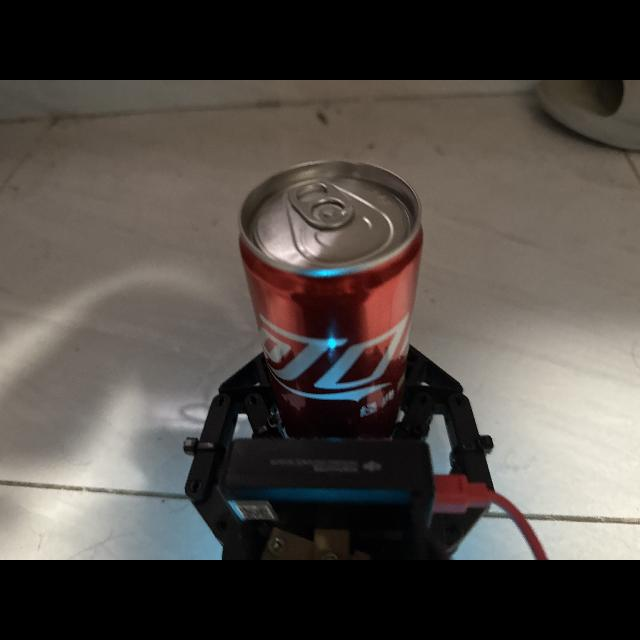Cola: (227, 148, 443, 412)
